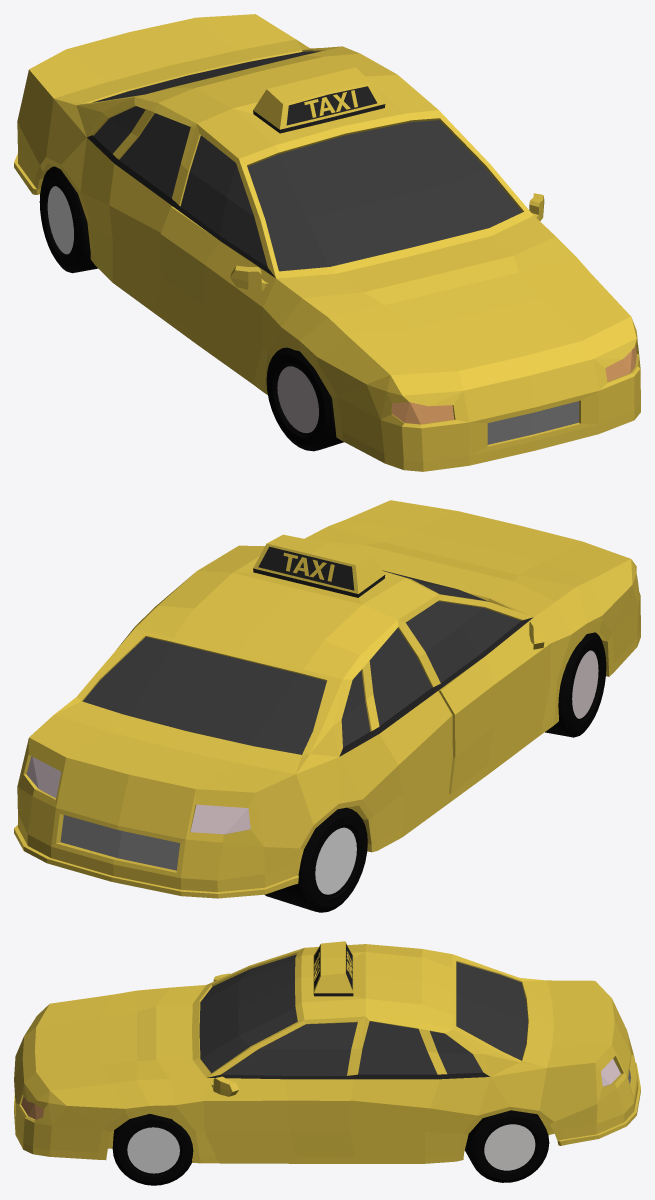
3 views of the same model, one above another, from view 1: azimuth 30°, elevation 25°; view 2: azimuth 150°, elevation 25°; view 3: azimuth 270°, elevation 25° (orthographic). The views are drawn at different scales.
Visible parts, largest first — view 1: Taxi, Cylinder, Cylinder.001; view 2: Taxi, Cylinder.001, Cylinder; view 3: Taxi, Cylinder.002, Cylinder.003.
Boxes of the visible parts, x1,y1,x2,y2 form: Taxi: [14, 14, 640, 471]; Cylinder: [266, 347, 343, 451]; Cylinder.001: [39, 166, 97, 273]; Taxi: [14, 500, 640, 898]; Cylinder.001: [264, 807, 367, 912]; Cylinder: [545, 632, 606, 737]; Taxi: [14, 941, 640, 1163]; Cylinder.002: [465, 1110, 549, 1182]; Cylinder.003: [112, 1114, 193, 1185].
Bounding box in the file's own units: 181 × 132 × 422.
